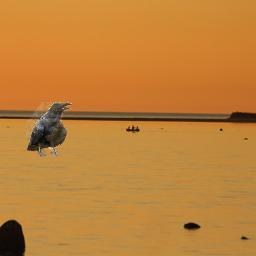Crow: (26, 102, 72, 157)
